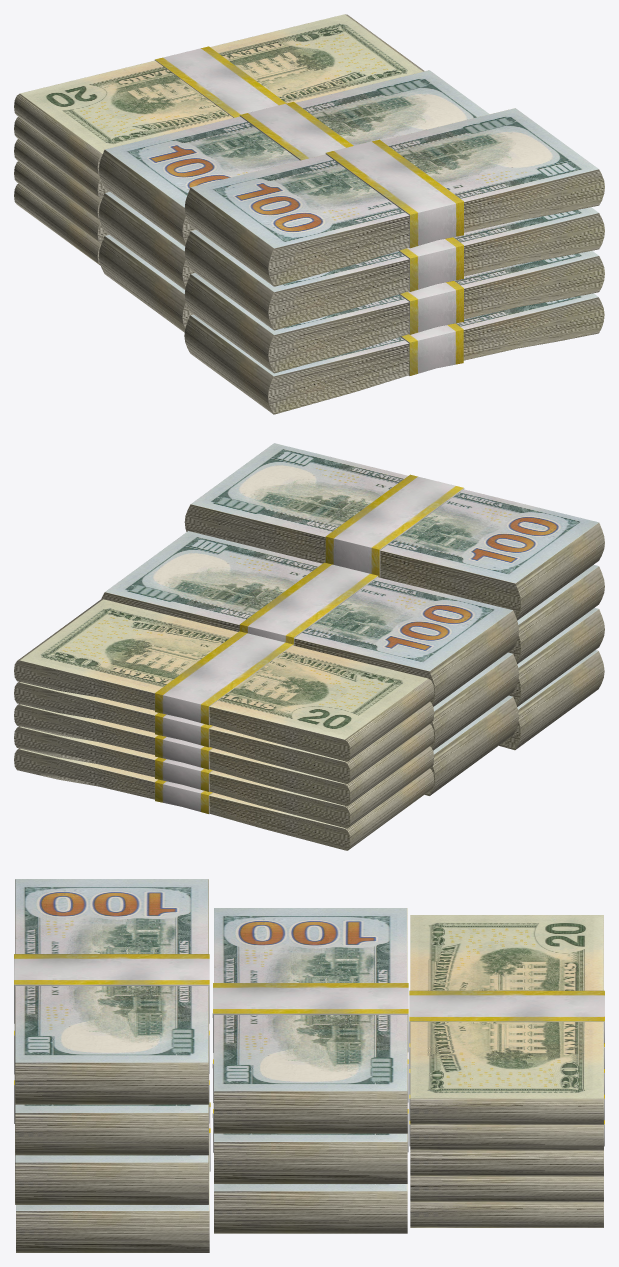
3 renders of one model, top to bottom at view 1: azimuth 30°, elevation 25°; view 2: azimuth 150°, elevation 25°; view 3: azimuth 270°, elevation 25°, orthographic. The views are drawn at different scales.
Visible parts, largest first — view 1: stacks of money.007, stacks of money.001, stacks of money.004, stacks of money, stacks of money.006, stacks of money.005, stacks of money.003, stacks of money.002; view 2: stacks of money.001, stacks of money.007, stacks of money.004, stacks of money, stacks of money.005, stacks of money.006, stacks of money.003, stacks of money.002; view 3: stacks of money.001, stacks of money.004, stacks of money.007, stacks of money, stacks of money.003, stacks of money.002, stacks of money.006, stacks of money.005.
Boxes of the visible parts, x1,y1,x2,y2 form: stacks of money.007: (184, 108, 604, 286); stacks of money.001: (14, 14, 424, 265); stacks of money.004: (99, 70, 489, 246); stacks of money: (184, 207, 604, 330); stacks of money.006: (184, 251, 604, 373); stacks of money.005: (184, 293, 604, 414); stacks of money.003: (99, 191, 194, 289); stacks of money.002: (99, 235, 192, 332); stacks of money.001: (14, 599, 434, 850); stacks of money.007: (184, 443, 604, 620); stacks of money.004: (101, 531, 518, 706); stacks of money: (508, 565, 604, 663); stacks of money.005: (499, 650, 604, 750); stacks of money.006: (509, 608, 604, 706); stacks of money.003: (430, 652, 518, 750); stacks of money.002: (424, 695, 518, 795); stacks of money.001: (409, 915, 604, 1227); stacks of money.004: (212, 908, 408, 1133); stacks of money.007: (14, 879, 209, 1104); stacks of money: (14, 1023, 209, 1155); stacks of money.003: (212, 1052, 408, 1183); stacks of money.002: (212, 1102, 408, 1233); stacks of money.006: (14, 1074, 209, 1204); stacks of money.005: (16, 1102, 210, 1252).
Bounding box in the file's own units: 2.64 × 1.26 × 3.47.
2 materials, 2 textured.
